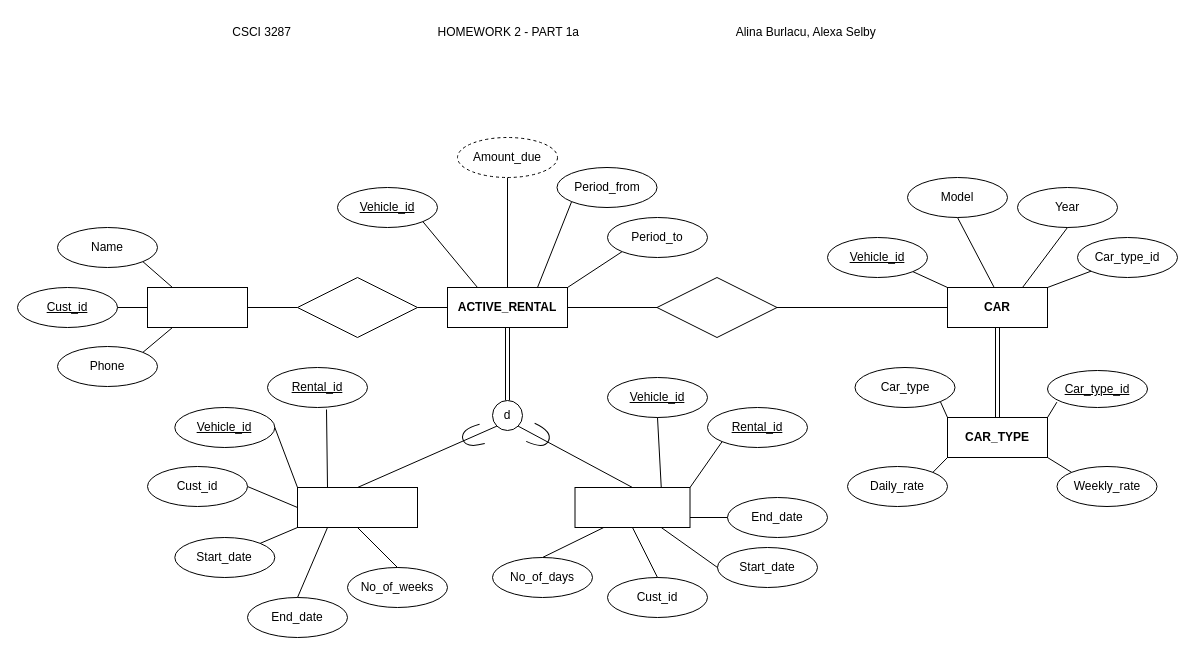
This 1195x655 diagram has some shape labels left out. Each missing label, with the centre of its shape:
"CUSTOMER" belongs at point 197,307.
"DAILY_RENTAL" belongs at point 632,507.
"HAS_A" belongs at point 357,307.
"IS_A" belongs at point 716,307.
"WEEKLY_RENTAL" belongs at point 357,507.
